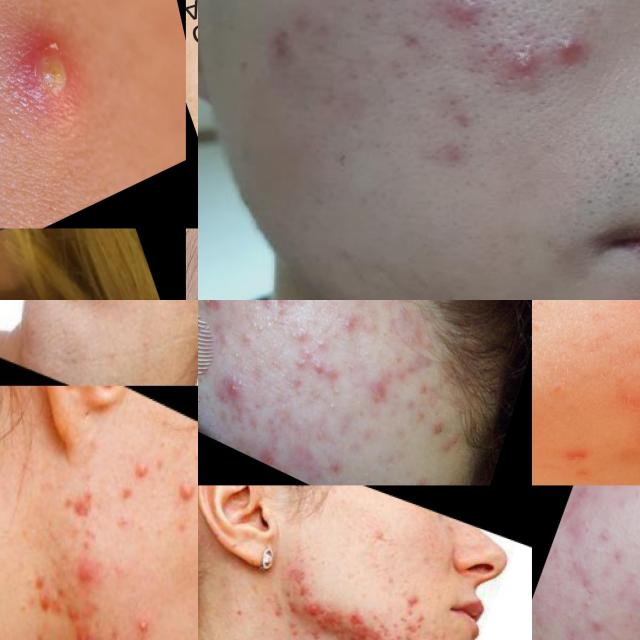acne_scars: (46, 464, 98, 534), (311, 597, 383, 640)
comedone: (337, 305, 370, 344), (247, 310, 274, 343), (572, 590, 596, 621), (574, 514, 598, 545), (229, 342, 250, 369), (321, 398, 342, 422)
cystic: (0, 5, 106, 134)
papule: (555, 28, 604, 76), (288, 589, 328, 627), (364, 371, 398, 415), (445, 0, 493, 31), (214, 375, 246, 413), (394, 615, 442, 640), (426, 416, 458, 450), (291, 337, 318, 376), (397, 588, 430, 618), (285, 318, 314, 352), (256, 443, 288, 472), (532, 300, 548, 353), (198, 300, 228, 318), (309, 354, 329, 381), (327, 454, 348, 479), (323, 360, 342, 384), (268, 300, 296, 314), (257, 300, 273, 312)
pustule: (488, 36, 552, 96), (155, 455, 198, 537), (112, 442, 156, 493), (120, 603, 159, 640)
sebo-crystan-conglo: (54, 605, 116, 640)
